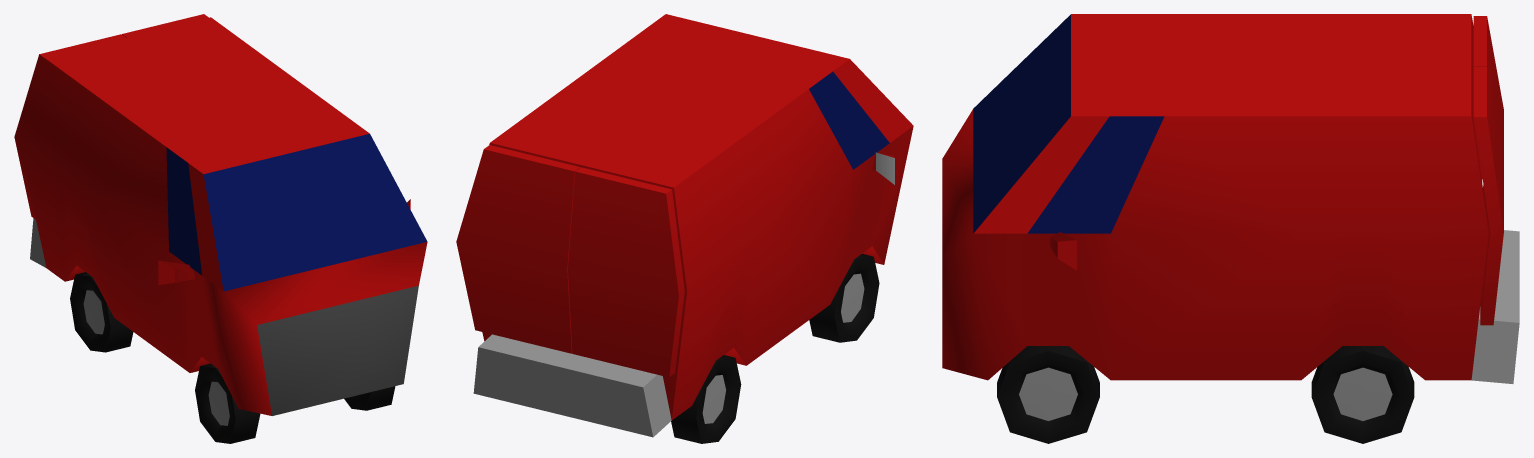
Rendered from House_Garage_Van.FBX.
The picture shows the model from 3 angles, left to right: view 1: azimuth 30°, elevation 25°; view 2: azimuth 150°, elevation 25°; view 3: azimuth 270°, elevation 25°; orthographic projection. The views are drawn at different scales.
Visible parts, largest first — view 1: House_Garage_Van_body, House_Garage_Van_tire3, House_Garage_Van_tire4, DriveWay_Van_Door_Passenger, House_Garage_Van_tire2, DriveWay_Van_Door_Driver; view 2: House_Garage_Van_body, DriveWay_Van_Door_Passenger, DriveWay_Van_Door_Driver, House_Garage_Van_tire3, House_Garage_Van_tire4; view 3: House_Garage_Van_body, House_Garage_Van_tire1, House_Garage_Van_tire2, DriveWay_Van_Door_Driver, DriveWay_Van_Door_Passenger.
Boxes of the visible parts, box(x1,y1,x2,y2) form: House_Garage_Van_body: box(19, 17, 427, 415); House_Garage_Van_tire3: box(195, 363, 260, 443); House_Garage_Van_tire4: box(70, 272, 133, 352); DriveWay_Van_Door_Passenger: box(14, 34, 125, 219); House_Garage_Van_tire2: box(344, 386, 395, 410); DriveWay_Van_Door_Driver: box(122, 14, 208, 37); House_Garage_Van_body: box(473, 14, 913, 437); DriveWay_Van_Door_Passenger: box(568, 167, 684, 377); DriveWay_Van_Door_Driver: box(456, 145, 580, 353); House_Garage_Van_tire3: box(809, 253, 879, 342); House_Garage_Van_tire4: box(671, 355, 741, 443); House_Garage_Van_body: box(942, 14, 1519, 383); House_Garage_Van_tire1: box(1311, 346, 1414, 443); House_Garage_Van_tire2: box(997, 346, 1099, 443); DriveWay_Van_Door_Driver: box(1473, 66, 1503, 325); DriveWay_Van_Door_Passenger: box(1473, 16, 1503, 209).
Bounding box in the file's own units: 364 × 361 × 573.
